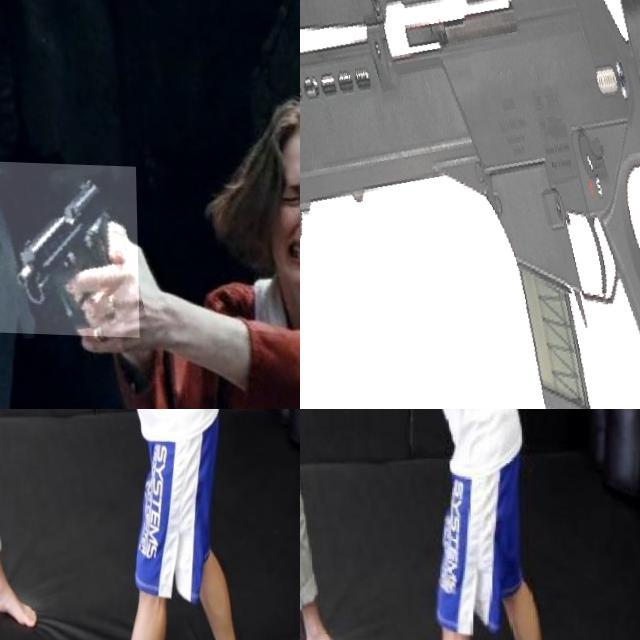-: (0, 409, 50, 462), (300, 409, 348, 464)
gun-knife-thesis - v11 Yolov5 augmented: (300, 0, 640, 409), (0, 160, 137, 335)
